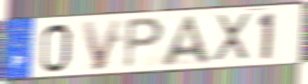0: (39, 22, 75, 74)
1: (256, 11, 277, 62)
A: (159, 14, 214, 69)
P: (121, 16, 167, 71)
V: (80, 18, 125, 73)
X: (210, 11, 253, 62)
